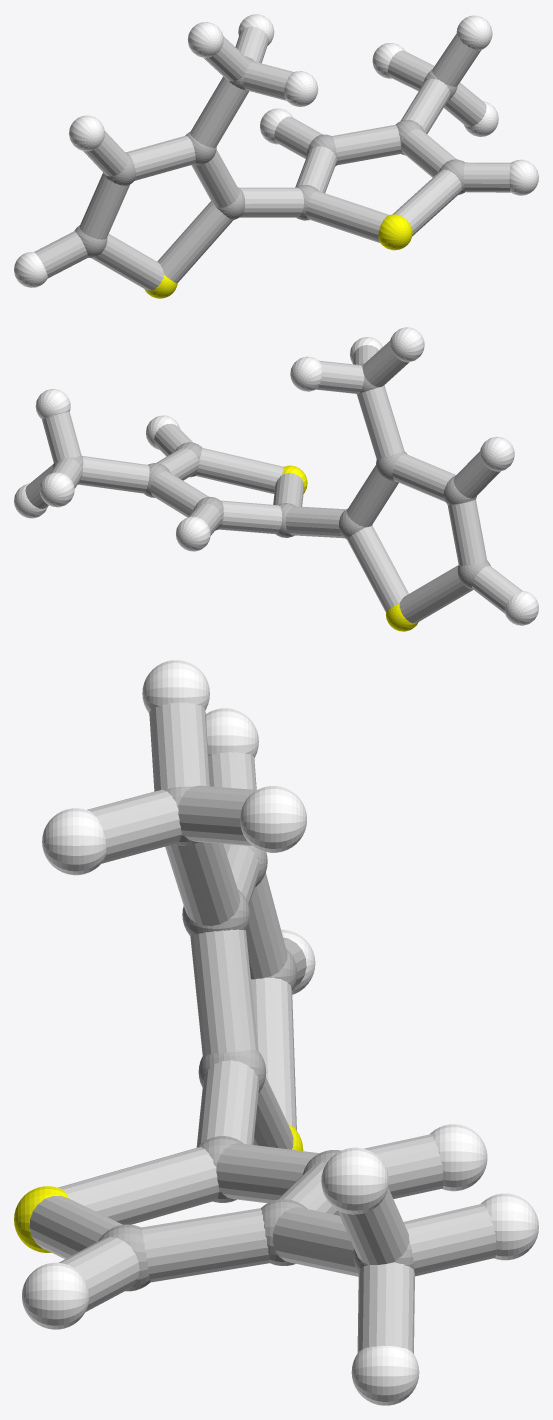
The model's file is Methylthiophene_Phi_20_Theta_90_Methylthiophene.glb.
3 views of the same model, one above another, from view 1: azimuth 30°, elevation 25°; view 2: azimuth 150°, elevation 25°; view 3: azimuth 270°, elevation 25° (orthographic). The views are drawn at different scales.
Visible parts, largest first — view 1: grp7965, grp3621, grp1, grp7241; view 2: grp7965, grp3621, grp1, grp7241; view 3: grp7965, grp3621, grp1, grp7241.
Part boxes in pixels (<box>): grp7965: <box>34,26,510,290</box>; grp3621: <box>14,14,538,287</box>; grp1: <box>74,56,464,257</box>; grp7241: <box>144,214,412,298</box>; grp7965: <box>25,341,522,623</box>; grp3621: <box>14,327,538,625</box>; grp1: <box>53,363,490,589</box>; grp7241: <box>282,465,418,631</box>; grp7965: <box>29,702,496,1353</box>; grp3621: <box>22,660,538,1405</box>; grp1: <box>98,786,413,1291</box>; grp7241: <box>14,1124,303,1252</box>.
Bounding box in the file's own units: 9.75 × 5.26 × 4.66.
